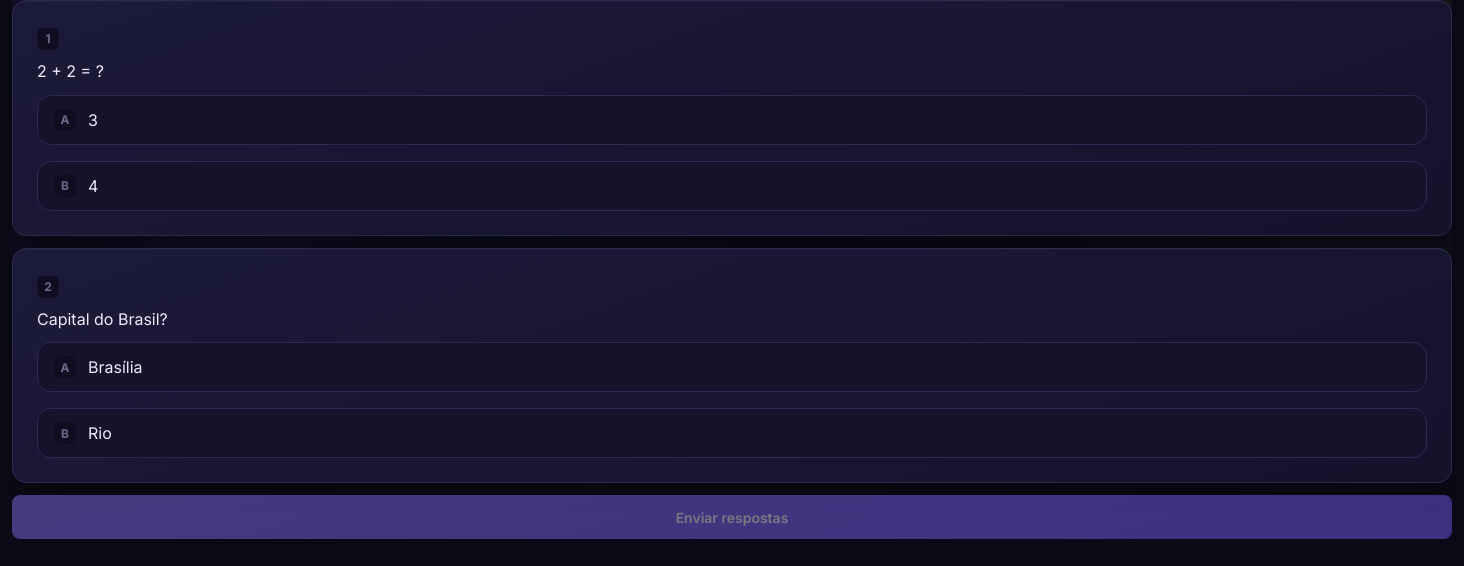
it: BateriaQuestoes › só habilita enviar depois de responder TODAS as questões
Click the button "B 4" at (65, 186), box [37, 161, 1427, 211]
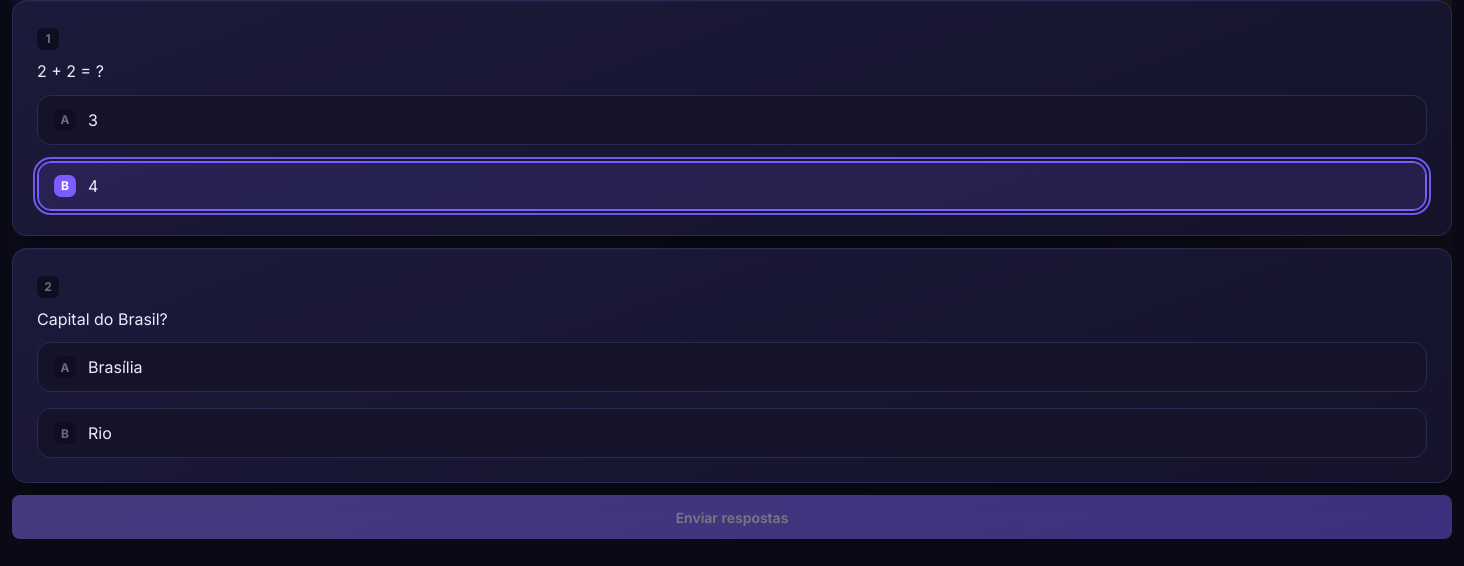
Check: the button "Enviar respostas" is disabled, box [12, 495, 1452, 539]
Click the button "B Rio" at (65, 433), box [37, 408, 1427, 458]
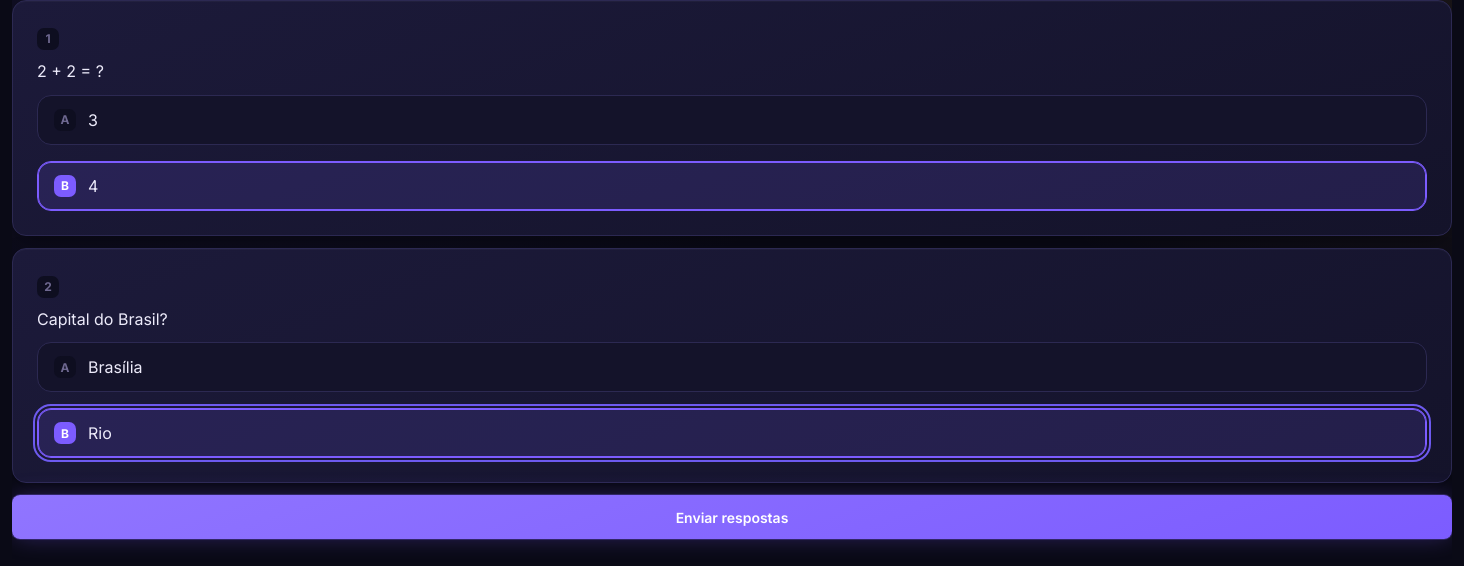
Check: the button "Enviar respostas" is enabled, box [12, 495, 1452, 539]
